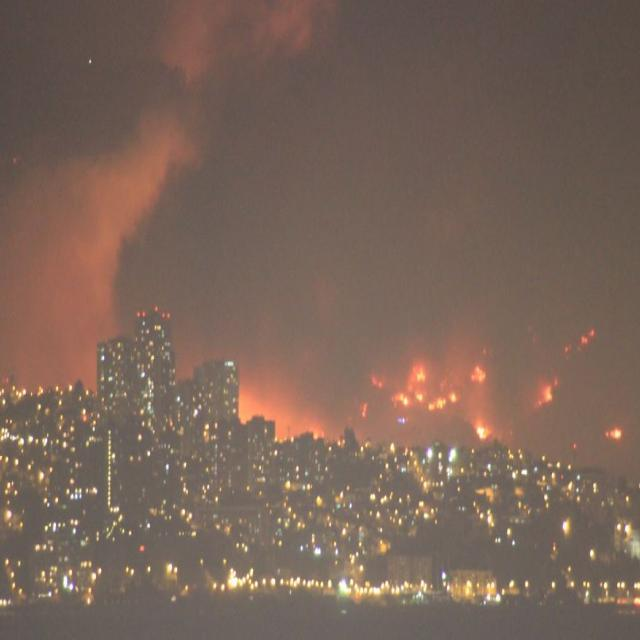Fire: (376, 357, 496, 440), (535, 311, 597, 414), (602, 424, 624, 442)
